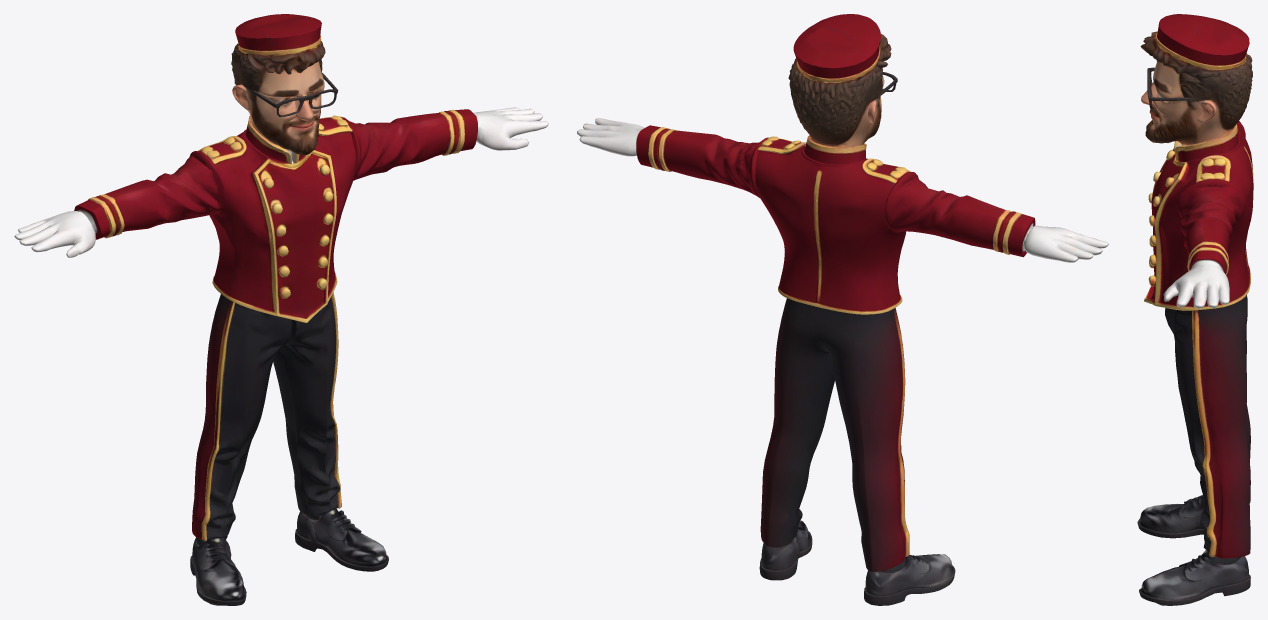
Rendered from charBellboy.glb.
3 renders of one model, left to right at view 1: azimuth 30°, elevation 25°; view 2: azimuth 150°, elevation 25°; view 3: azimuth 270°, elevation 25°, orthographic.
Visible parts, largest first — view 1: model; view 2: model; view 3: model.
Part boxes in pixels (x1=…): model: x1=14, y1=14, x2=548, y2=605; model: x1=577, y1=14, x2=1108, y2=605; model: x1=1137, y1=14, x2=1253, y2=605.
Size of the model in its own units: 1.88 by 1.9 by 0.3678.
1 material, 1 textured.
